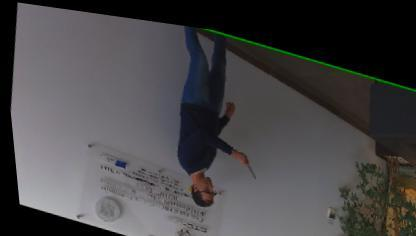knife: (235, 144, 258, 173)
